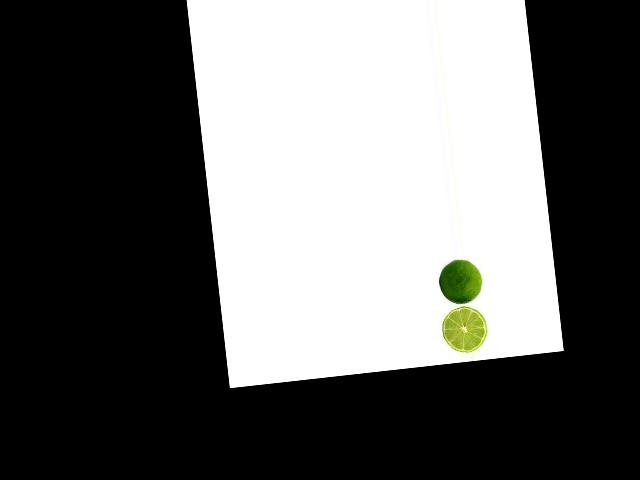lemon: (434, 258, 483, 305)
